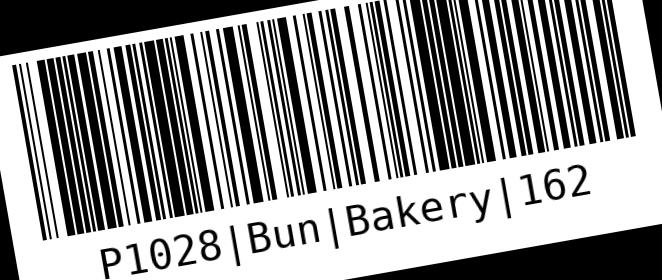milk: (6, 0, 661, 278)
